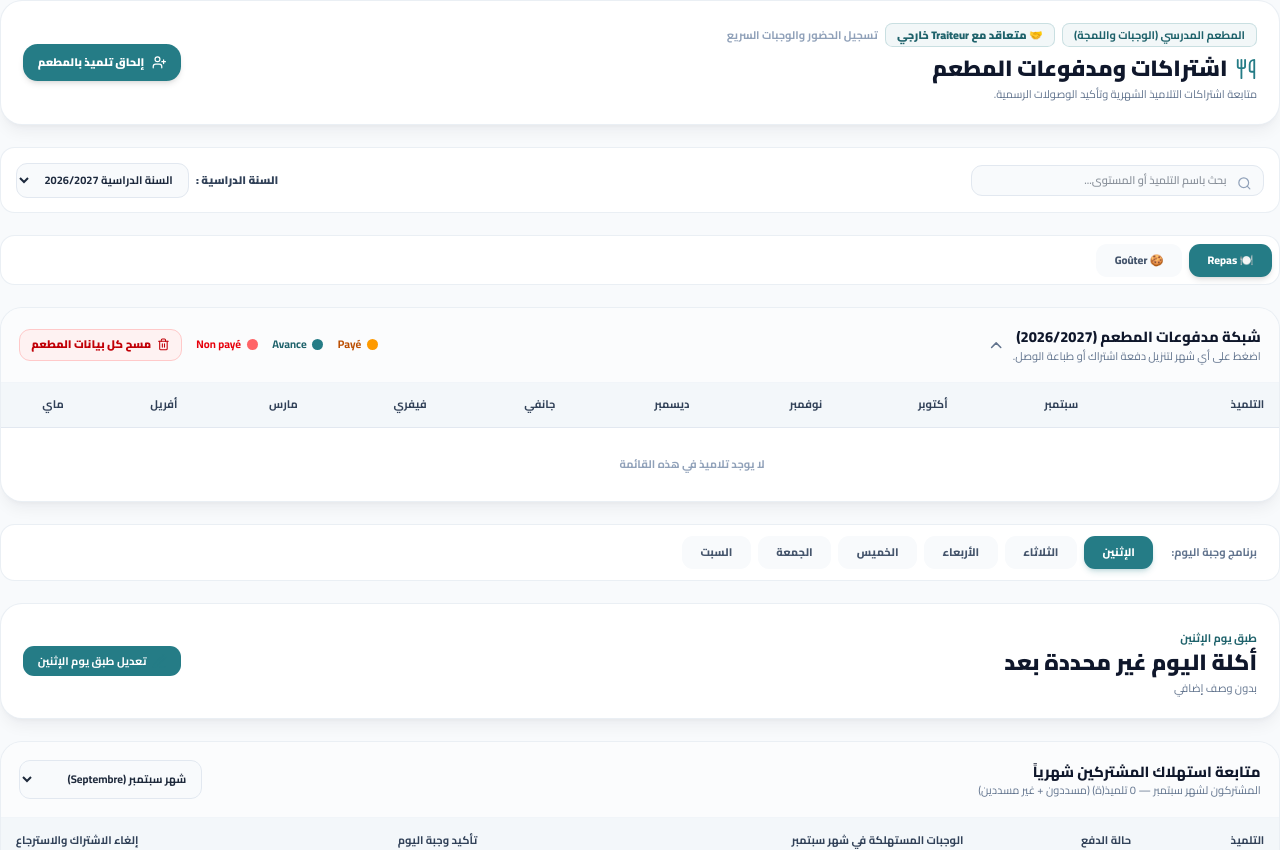
Test: MealsModule — revision D remarks › remark M4: the Goûter subscribers table shows the edit-type action but no unenroll button
# The Goûter subscribers grid lives on the Goûter panel (revision E).
Click the tab with test id "service-tab-gouter".
click(1139, 260)  # box [1096,244,1182,277]
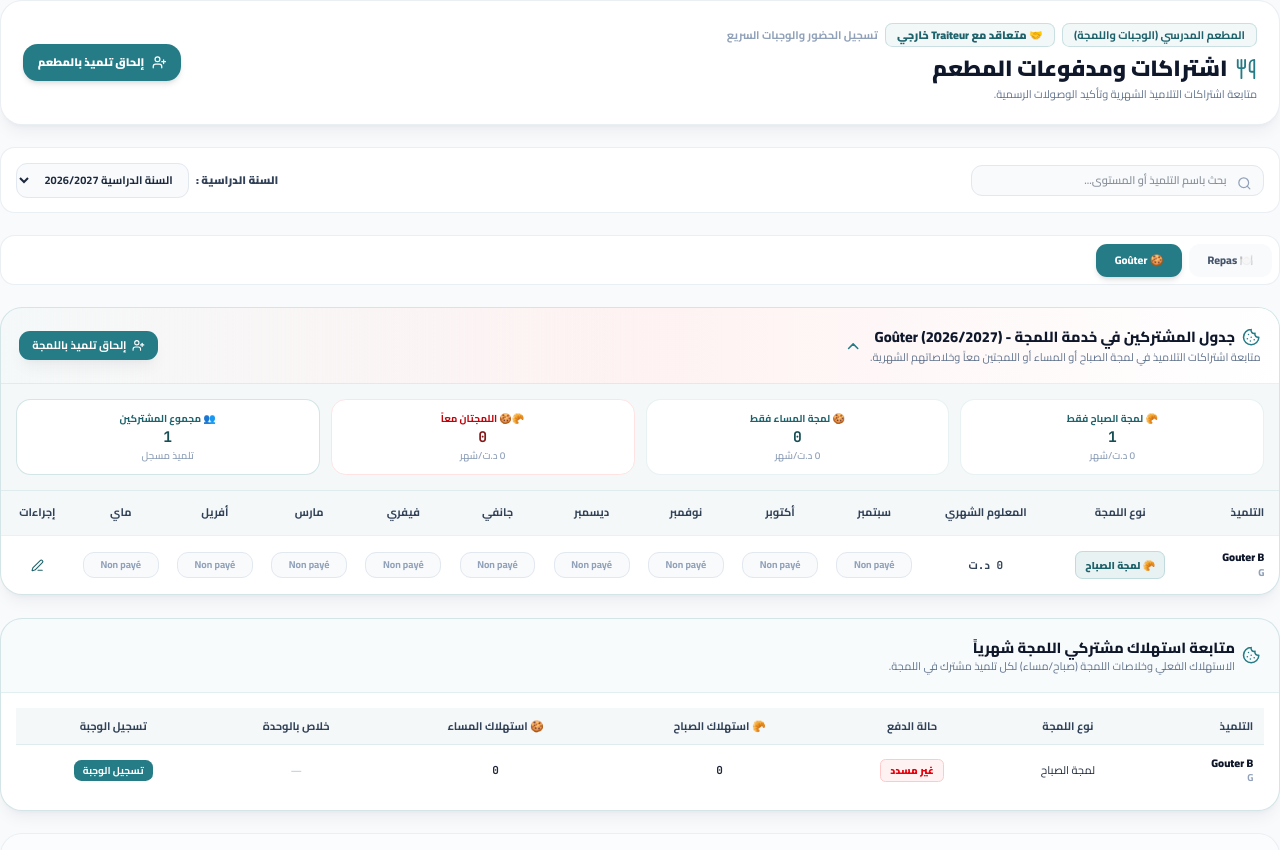
Expected: the button titled "تعديل نوع الاشتراك" is shown, [25,553,49,577]
